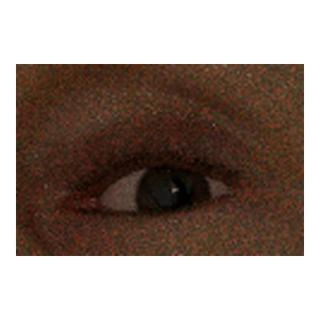pupil: (156, 181, 190, 214)
